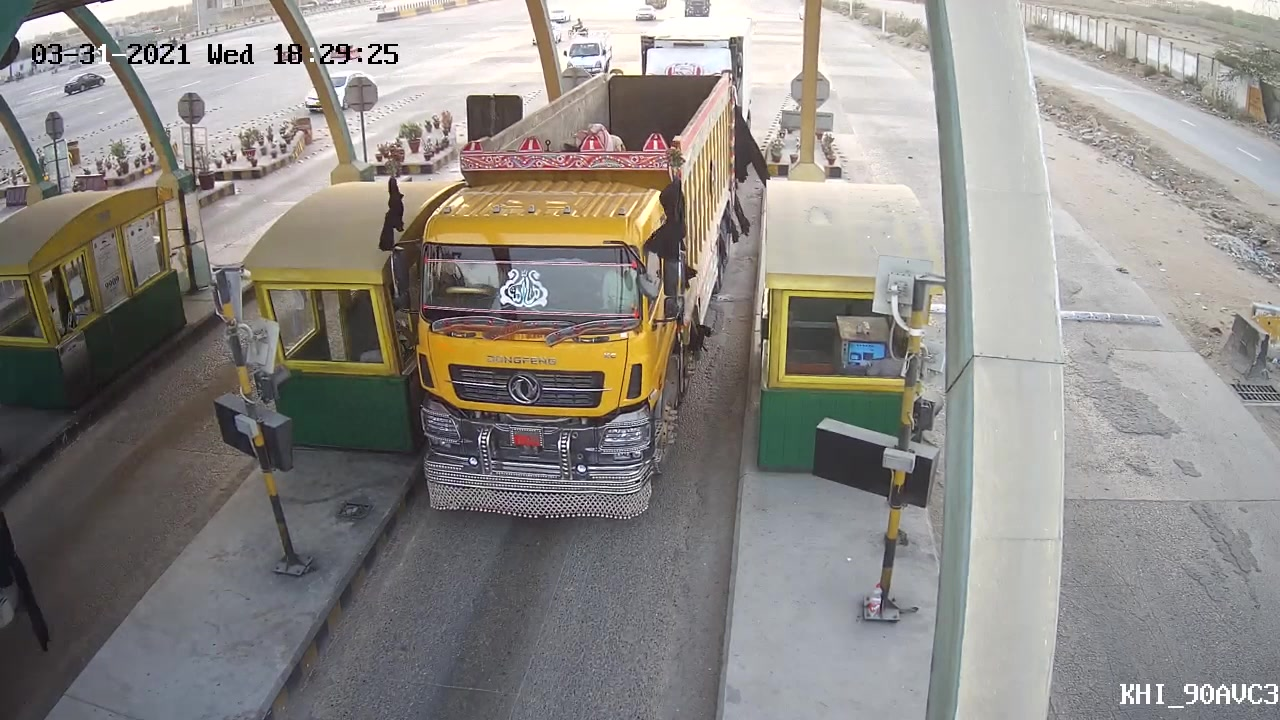F5: (381, 163, 696, 523)
